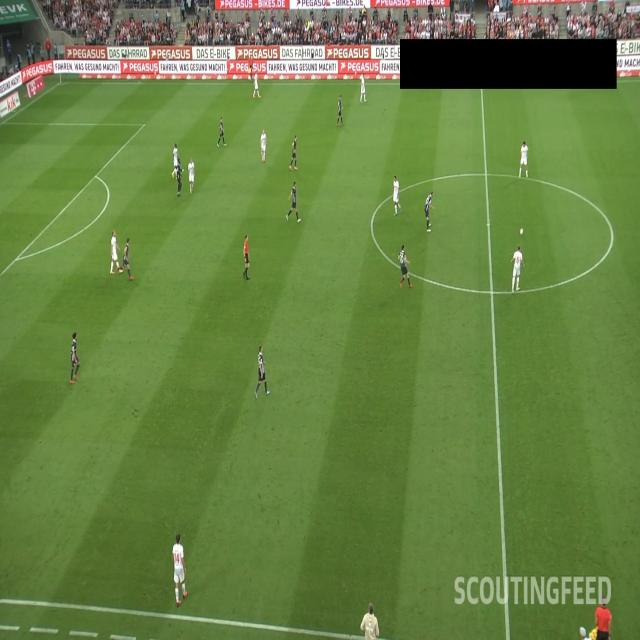ball: (520, 228, 524, 235)
